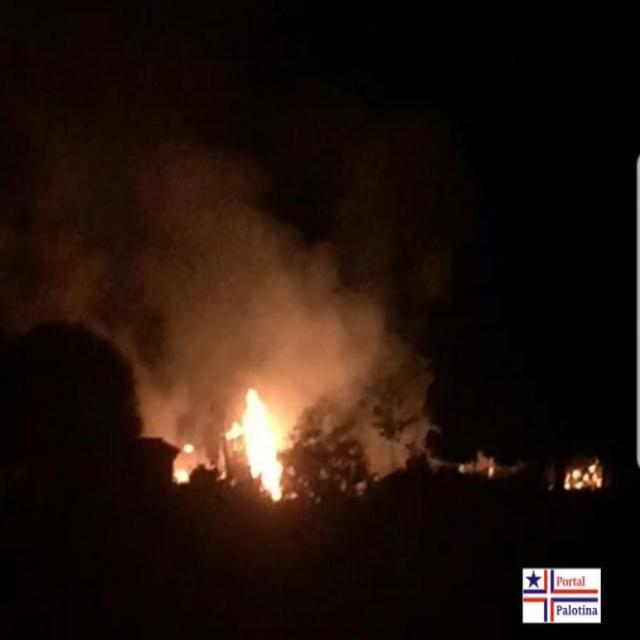Fire: (236, 391, 292, 502)
